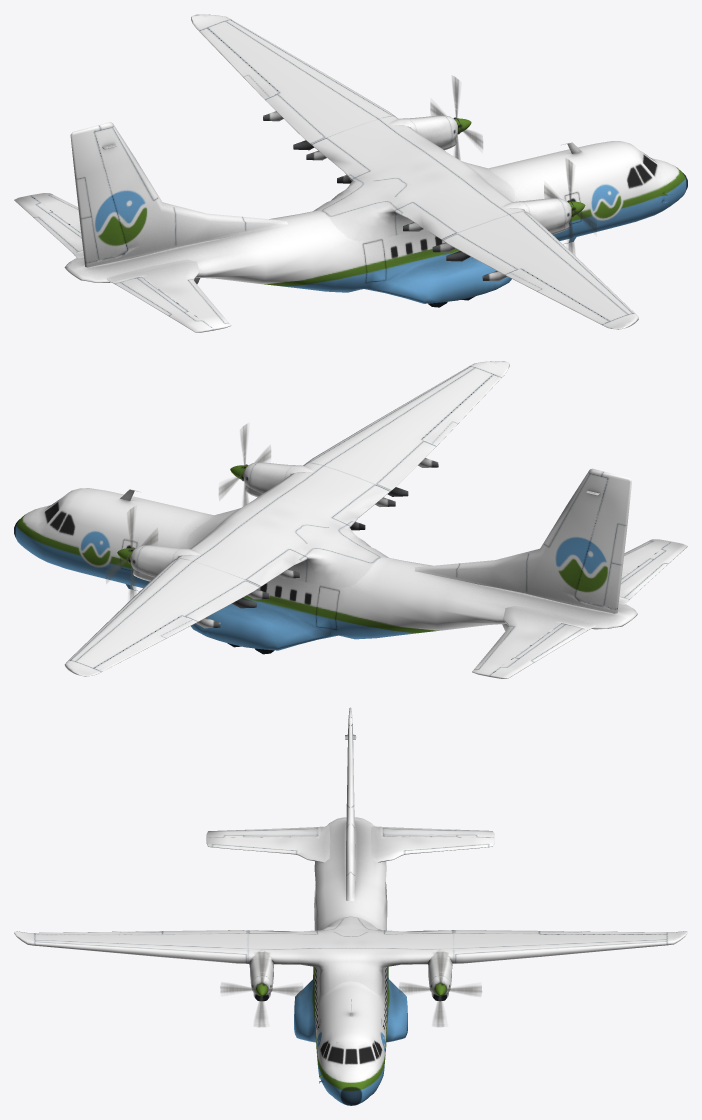
File: Cesium_Air.glb
The picture shows the model from 3 angles, top to bottom: view 1: azimuth 30°, elevation 25°; view 2: azimuth 150°, elevation 25°; view 3: azimuth 270°, elevation 25°; orthographic projection. The views are drawn at different scales.
Visible parts, largest first — view 1: Cesium_Air, Prop, Prop__2_; view 2: Cesium_Air, Prop__2_, Prop; view 3: Cesium_Air, Prop, Prop__2_.
Part boxes in pixels (x1,y1,x2,y2): Cesium_Air: [14, 14, 687, 332]; Prop: [544, 159, 596, 254]; Prop__2_: [430, 76, 482, 159]; Cesium_Air: [14, 361, 687, 678]; Prop__2_: [106, 507, 157, 599]; Prop: [219, 424, 270, 506]; Cesium_Air: [14, 707, 687, 1105]; Prop: [220, 952, 303, 1027]; Prop__2_: [399, 952, 481, 1026].
Bounding box in the file's own units: 21.4 × 7.76 × 25.74.
2 materials, 2 textured.
